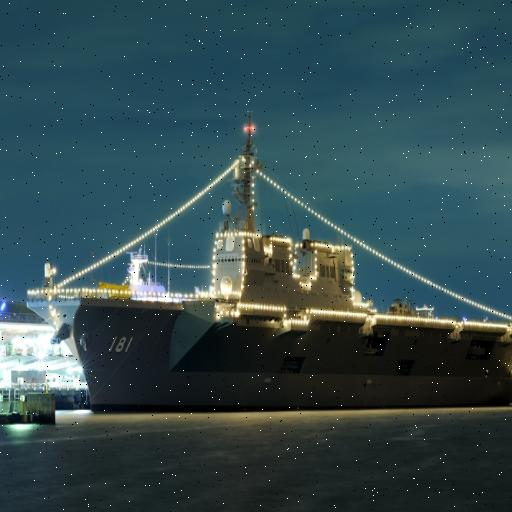Portanaves: (26, 107, 512, 417)
